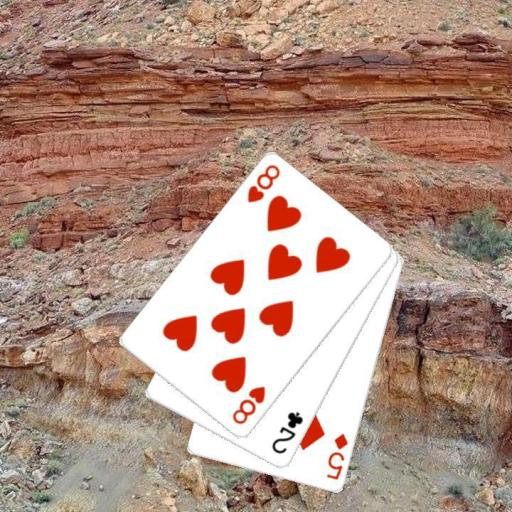2C: (268, 409, 305, 456)
5D: (323, 431, 350, 481)
8H: (229, 383, 267, 427), (244, 161, 282, 205)
